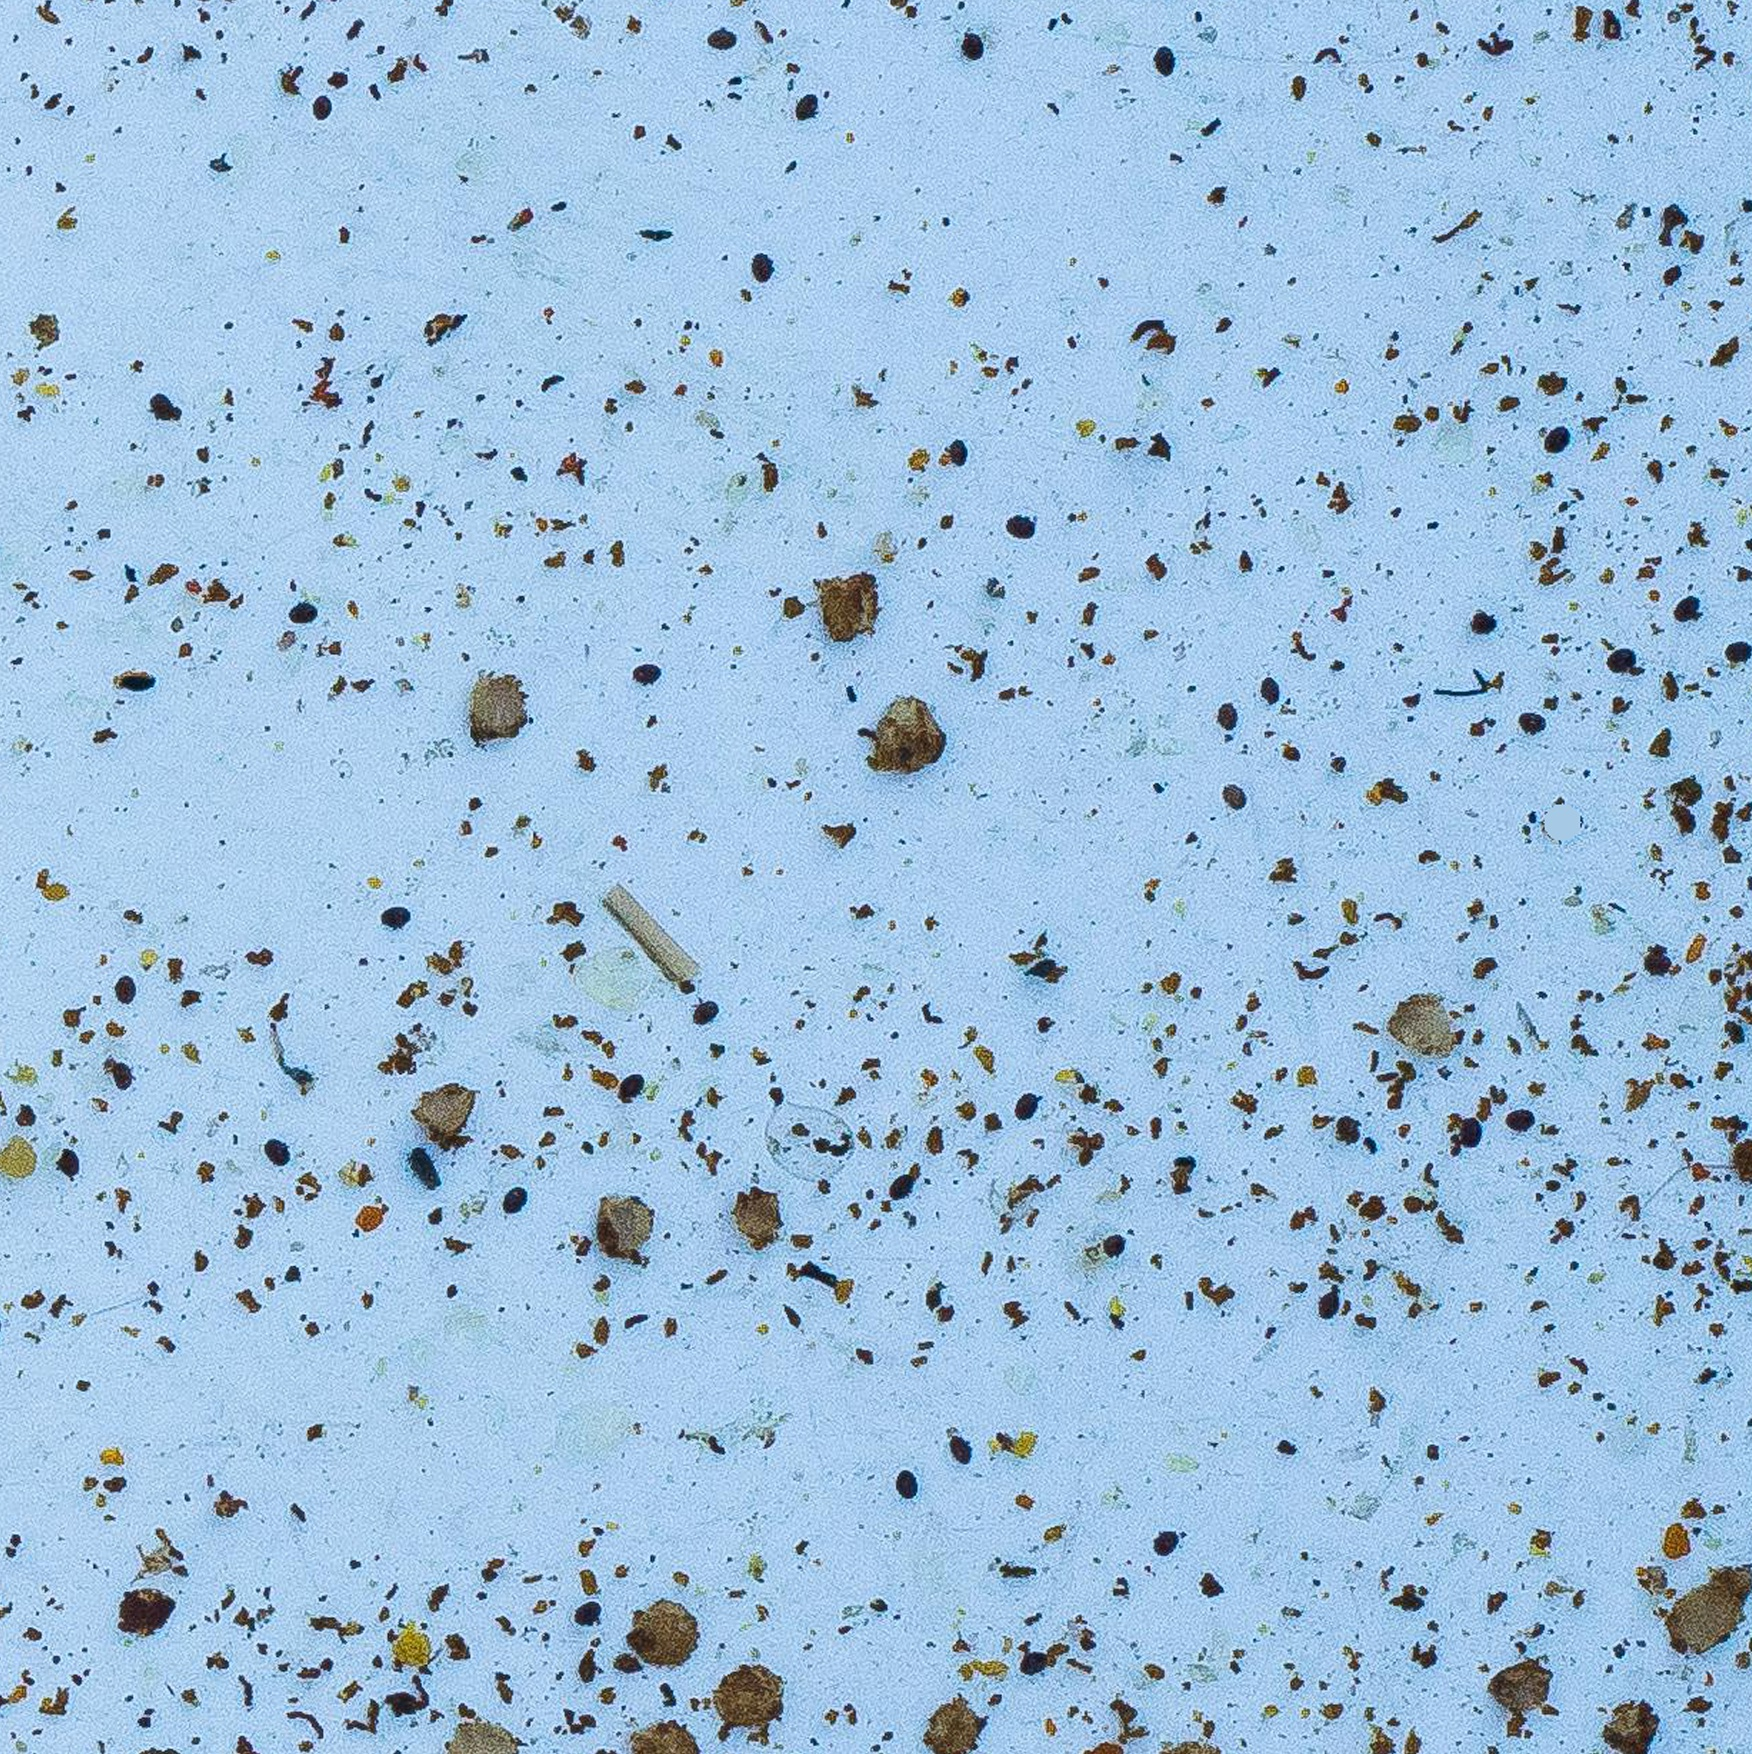Varroa: (1146, 1521, 1179, 1557), (570, 1594, 603, 1629), (1717, 631, 1750, 664), (47, 1138, 80, 1171), (377, 903, 411, 936), (1312, 1287, 1346, 1319), (744, 249, 777, 281), (1503, 1098, 1535, 1130), (1001, 509, 1033, 539), (143, 390, 173, 422), (1019, 1642, 1049, 1674), (943, 1435, 974, 1467), (1253, 671, 1284, 701), (955, 26, 983, 58), (704, 27, 733, 59), (1011, 1091, 1040, 1122), (1670, 594, 1701, 623), (898, 1462, 927, 1492), (101, 1059, 130, 1088), (501, 1181, 529, 1210), (631, 656, 659, 685), (1454, 1115, 1482, 1144), (1542, 416, 1571, 445), (942, 433, 969, 464), (1221, 778, 1248, 809), (262, 1133, 289, 1162), (1606, 647, 1633, 676), (788, 91, 815, 120), (306, 90, 334, 119), (1523, 701, 1550, 729), (695, 989, 720, 1014), (886, 1175, 911, 1200), (682, 1003, 708, 1029), (286, 592, 311, 616), (614, 1078, 639, 1102), (104, 976, 128, 997)
